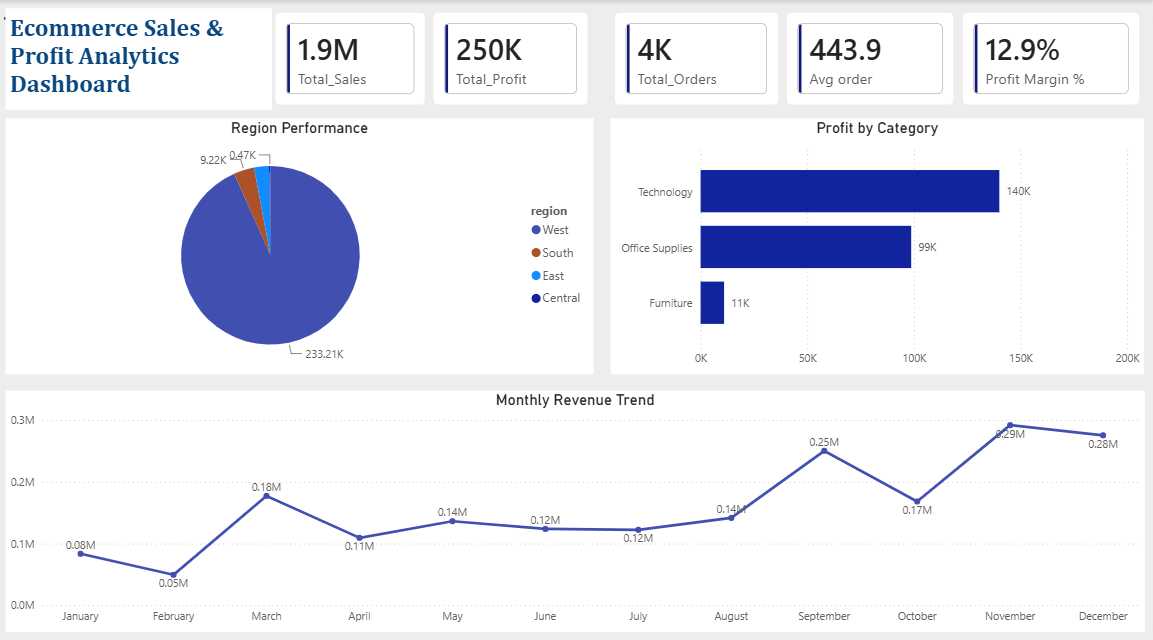

The page's visual inventory and layout, read from the dashboard file:
{"tool":"powerbi","page":{"name":"Executive Summary ","canvas":[1280,720],"ordinal":0},"visuals":[{"type":"cardVisual","fields":{"Data":["public vw_kpi_summary.Sum_of_Sales"]},"box":[301.2,9.6,176,112.8],"z":0},{"type":"cardVisual","fields":{"Data":["public vw_kpi_summary.Sum_of_Profit"]},"box":[477.2,9.6,181.5,112.8],"z":1000},{"type":"cardVisual","fields":{"Data":["public vw_kpi_summary.Sum_of_Orders"]},"box":[678,9.6,191.2,112.8],"z":2000},{"type":"cardVisual","fields":{"Data":["public vw_sales_data.Avg order value"]},"box":[869.2,9.6,195.3,112.8],"z":3000},{"type":"cardVisual","fields":{"Data":["public vw_sales_data.Profit Margin %"]},"box":[1064.5,9.6,206.3,112.8],"z":4000},{"type":"lineChart","title":"Monthly Revenue Trend ","fields":{"Category":["public vw_sales_data.order_date.Variation.Date Hierarchy.Month"],"Y":["public vw_sales_data.total sales"]},"box":[5.5,433.2,1265.3,268.2],"z":5000},{"type":"clusteredBarChart","title":"Profit by Category","fields":{"Category":["public vw_sales_data.category"],"Y":["public vw_sales_data.Total profit"]},"box":[678,132,592.7,284.7],"z":6000},{"type":"pieChart","title":"Region Performance ","fields":{"Category":["public vw_sales_data.region"],"Y":["public vw_sales_data.Total profit"]},"box":[5.5,132,653.3,284.7],"z":7000},{"type":"actionButton","box":[0,0,11,41.3],"z":8000},{"type":"textbox","box":[5.5,9.6,295.7,112.8],"z":9000}]}

Visuals, with their boxes in screenshot pixels (x1, y1, x2, y2), scaled from the page's 1280x720 canvas onto the 1153x640 screenshot:
cardVisual - public vw_kpi_summary.Sum_of_Sales: 271,9,430,109
cardVisual - public vw_kpi_summary.Sum_of_Profit: 430,9,593,109
cardVisual - public vw_kpi_summary.Sum_of_Orders: 611,9,783,109
cardVisual - public vw_sales_data.Avg order value: 783,9,959,109
cardVisual - public vw_sales_data.Profit Margin %: 959,9,1145,109
"Monthly Revenue Trend " lineChart: 5,385,1145,623
"Profit by Category" clusteredBarChart: 611,117,1145,370
"Region Performance " pieChart: 5,117,593,370
actionButton: 0,0,10,37
textbox: 5,9,271,109
